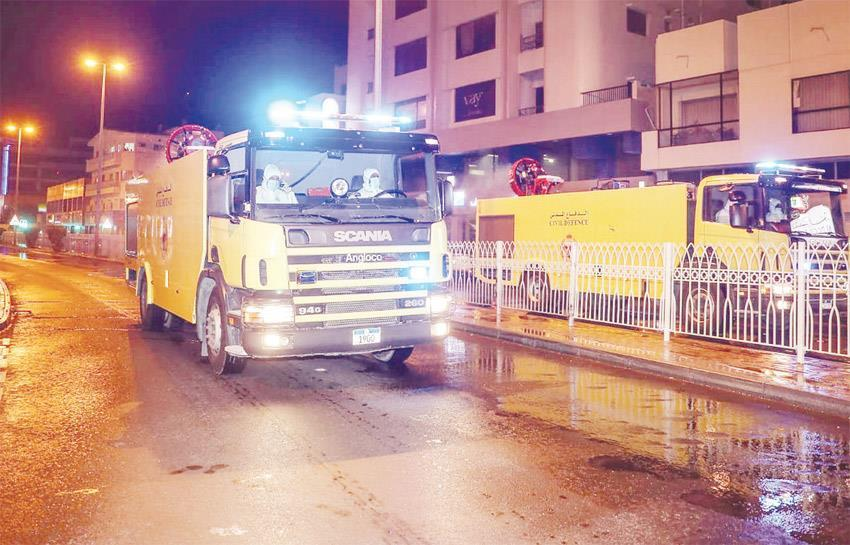firetruck_on: (121, 101, 448, 374), (472, 162, 849, 326)
